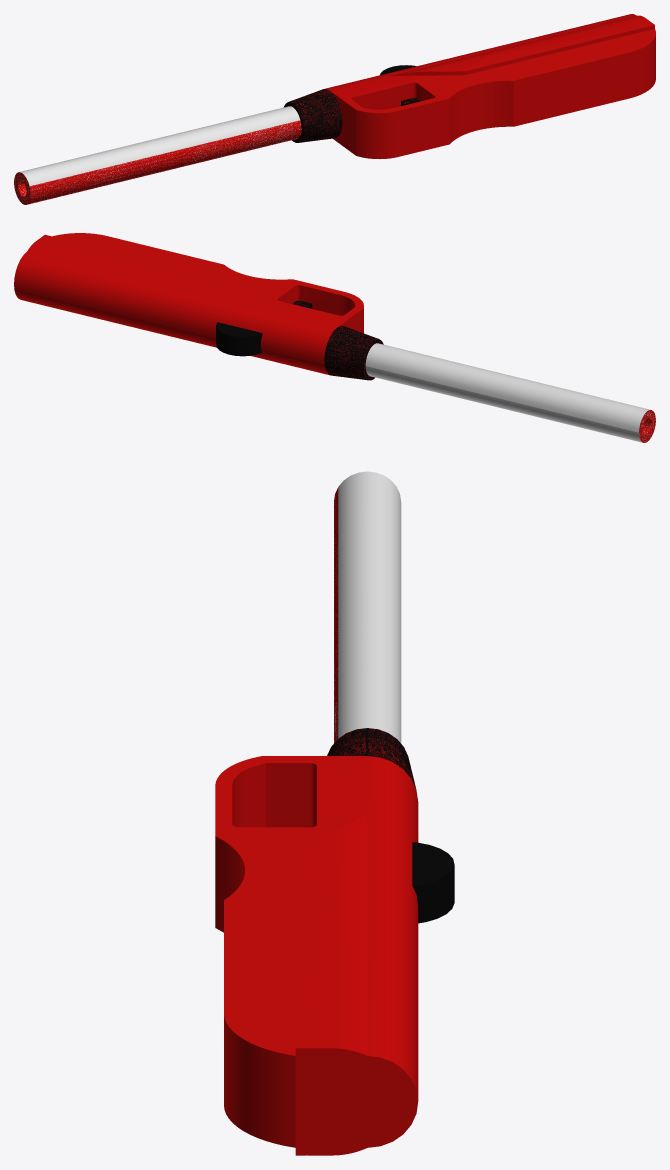
Rendered from lighter.dae.
3 renders of one model, top to bottom at view 1: azimuth 30°, elevation 25°; view 2: azimuth 150°, elevation 25°; view 3: azimuth 270°, elevation 25°, orthographic. The views are drawn at different scales.
Visible parts, largest first — view 1: group_2 (×9); view 2: group_2 (×7), group_1; view 3: group_2 (×8), group_1.
Part boxes in pixels (x1=…): group_2 (×9): x1=14, y1=14, x2=655, y2=204; group_2 (×7): x1=14, y1=233, x2=655, y2=442; group_1: x1=216, y1=322, x2=262, y2=356; group_2 (×8): x1=215, y1=471, x2=418, y2=1155; group_1: x1=412, y1=842, x2=454, y2=923.
Size of the model in its own units: 10.5 by 1.77 by 0.875.
